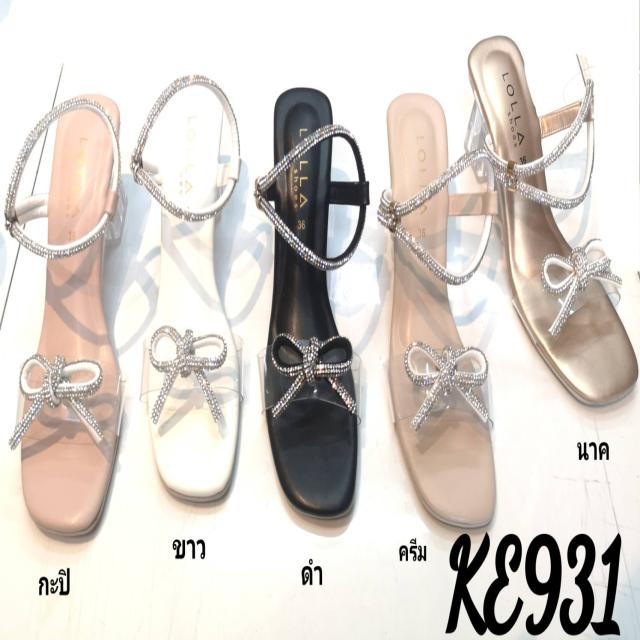black: (268, 80, 359, 515)
cream: (386, 95, 500, 533)
kapi: (22, 92, 128, 529)
nak: (461, 27, 636, 405)
white: (148, 86, 242, 497)
